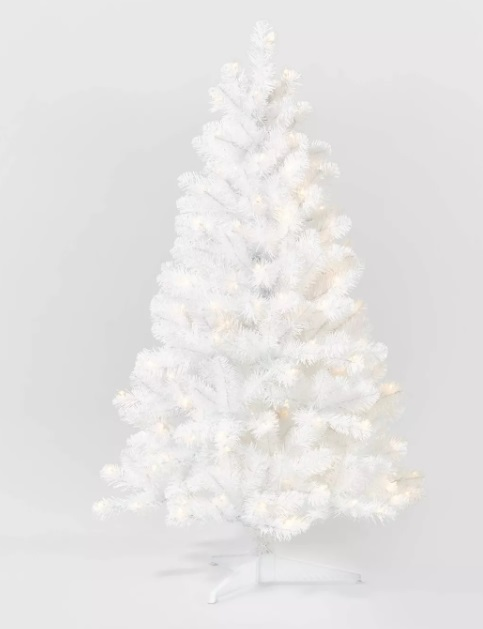White: (93, 21, 455, 611)
